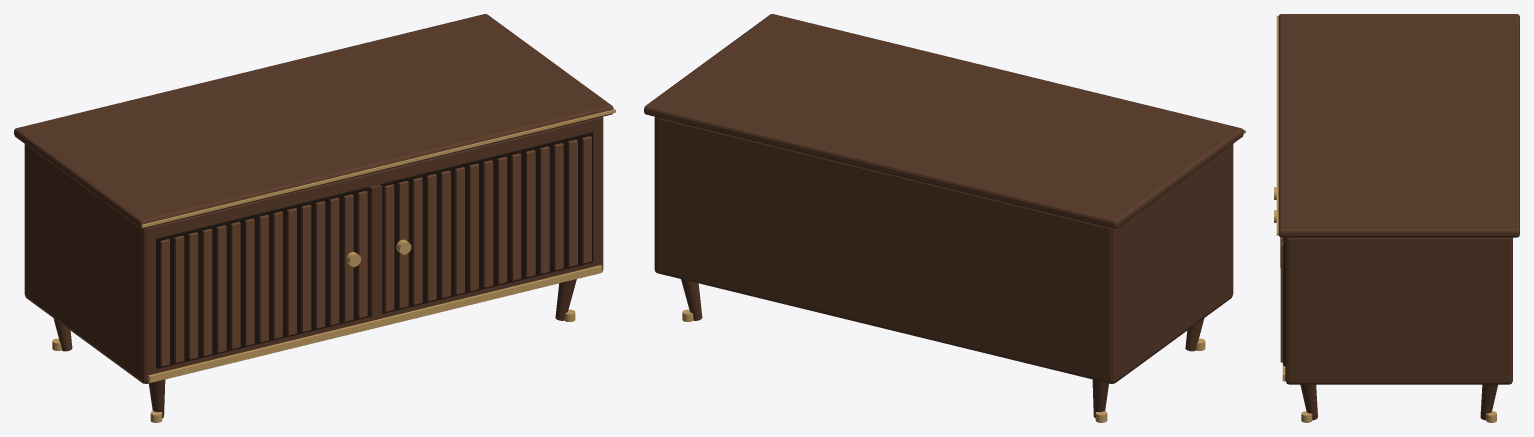
The model's file is credenza_radio.glb.
The picture shows the model from 3 angles, left to right: view 1: azimuth 30°, elevation 25°; view 2: azimuth 150°, elevation 25°; view 3: azimuth 270°, elevation 25°; orthographic projection. The views are drawn at different scales.
Visible parts, largest first — view 1: credenza_radio; view 2: credenza_radio; view 3: credenza_radio.
Boxes of the visible parts, x1,y1,x2,y2 form: credenza_radio: (14,14,615,422); credenza_radio: (644,14,1245,422); credenza_radio: (1274,14,1519,422).
Bounding box in the file's own units: 2.26 × 0.9921 × 1.08.
